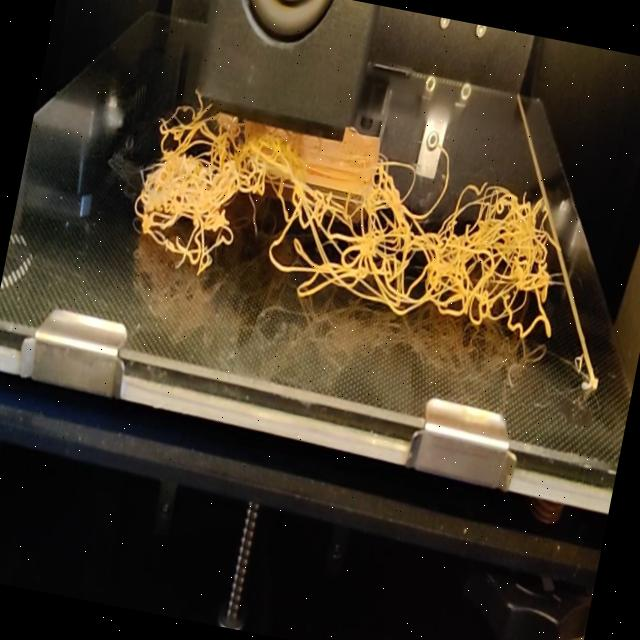spaghetti: (116, 97, 578, 356)
